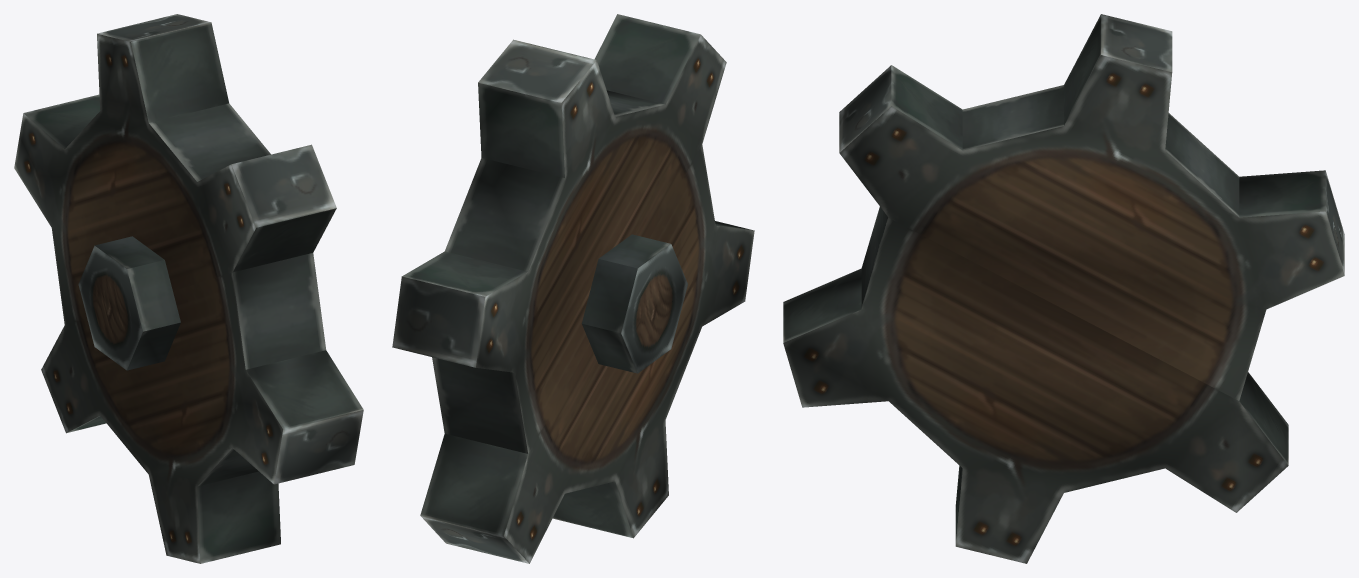
The model's file is dcfx4_chilun_dan.FBX.
3 renders of one model, left to right at view 1: azimuth 30°, elevation 25°; view 2: azimuth 150°, elevation 25°; view 3: azimuth 270°, elevation 25°, orthographic. The views are drawn at different scales.
Parts seen in each view (by area): view 1: dcfx4_chilun_dan; view 2: dcfx4_chilun_dan; view 3: dcfx4_chilun_dan.
Part boxes in pixels (x1,y1,x2,y2): dcfx4_chilun_dan: (14,14,363,563); dcfx4_chilun_dan: (392,14,754,563); dcfx4_chilun_dan: (783,14,1344,563).
Size of the model in its own units: 213 by 838 by 838.
